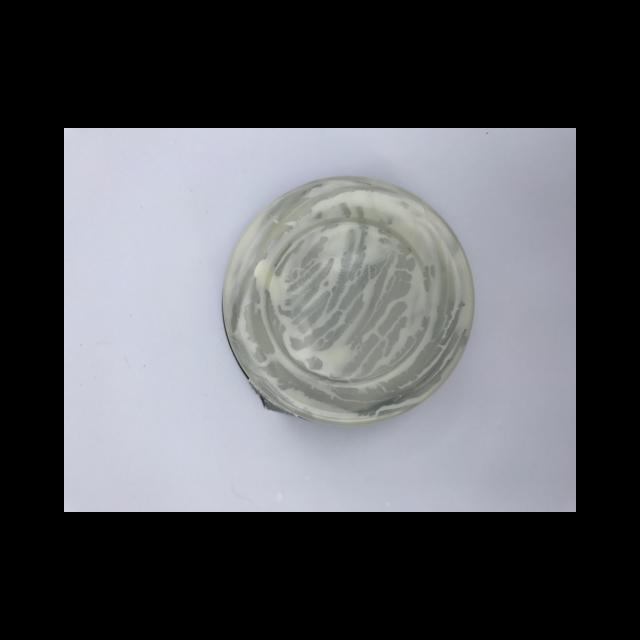plastic: (222, 175, 473, 425)
